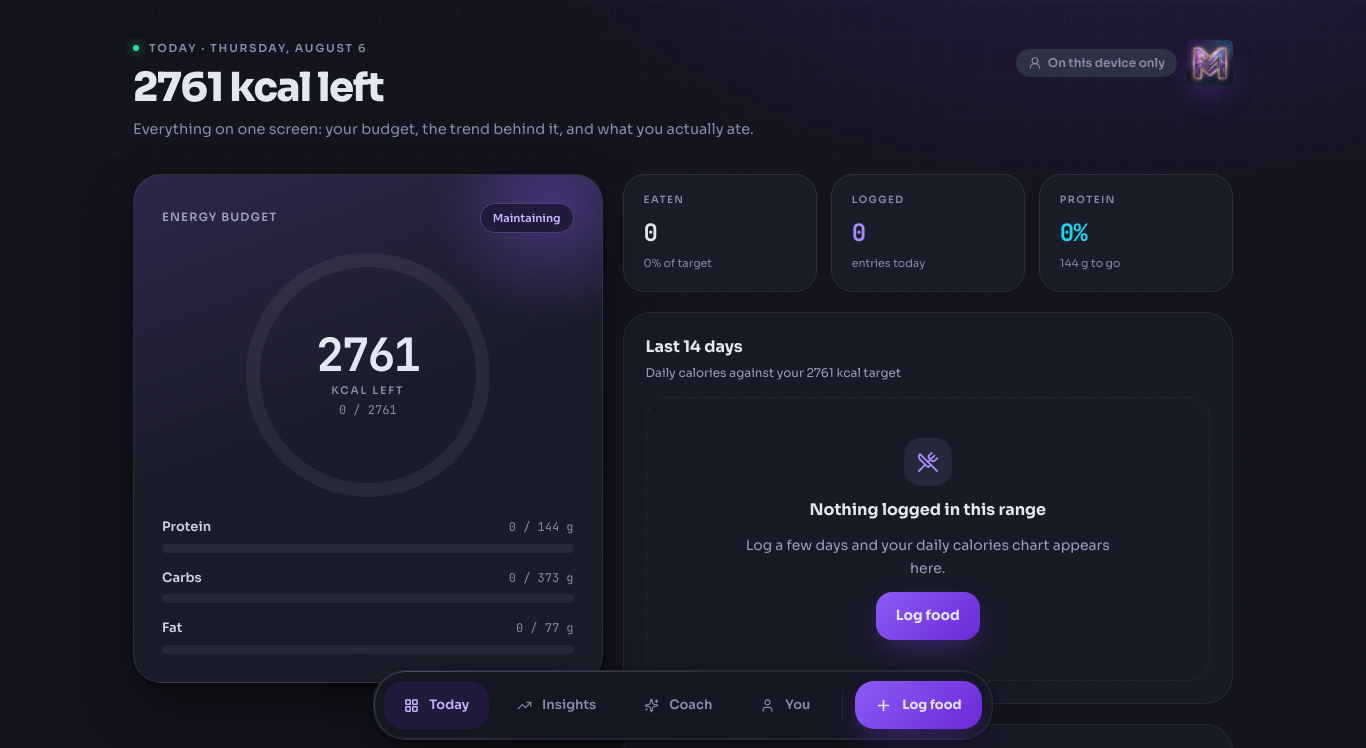
Scenario: routing — once onboarded › reaches Coach from the dock, and History from Coach’s shortcuts
The width and height of the screenshot is (1366, 748).
Click the link "Coach". click: (678, 705)
box: left=644, top=696, right=712, bottom=713
(page scrolled)
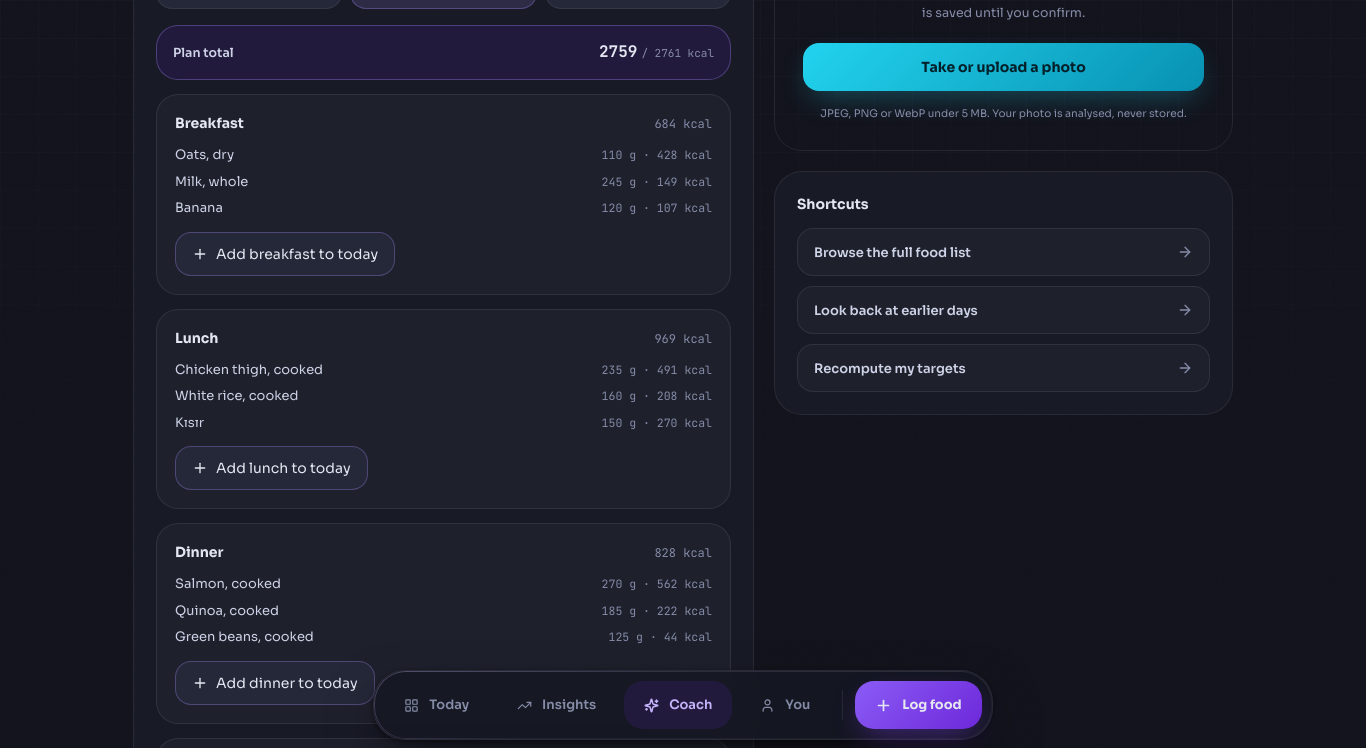
Check: the link "Look back at earlier days" is shown, box left=797, top=286, right=1210, bottom=334
Check: the link "Recompute my targets" is shown, box left=797, top=344, right=1210, bottom=392
